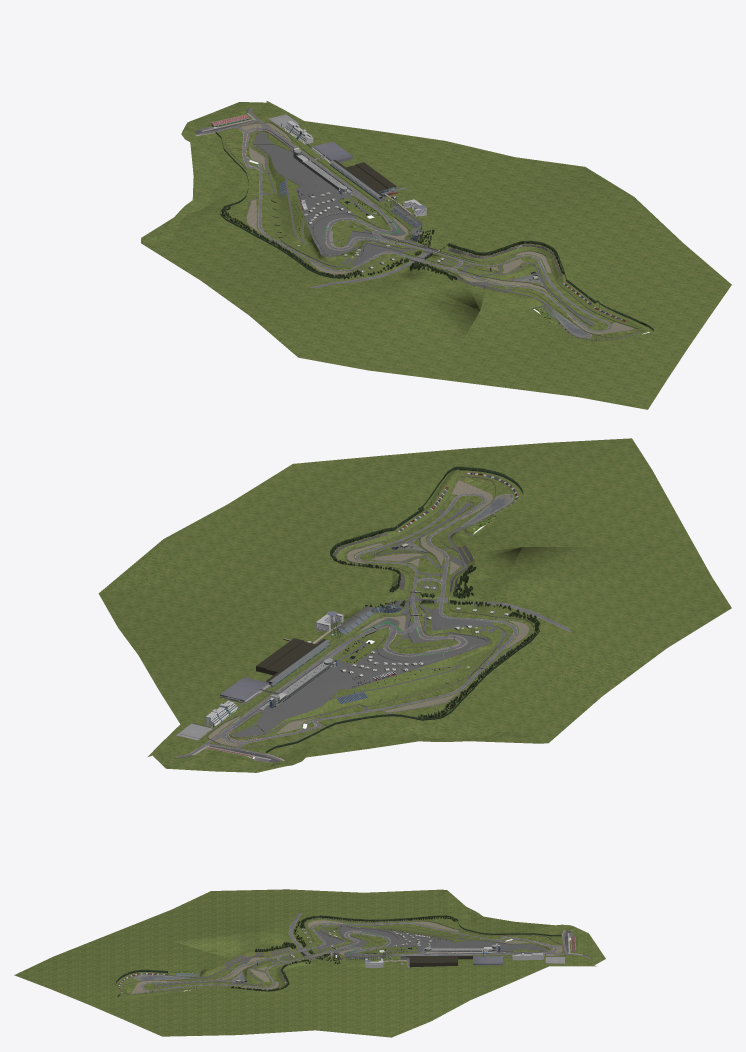
Rendered from SUP_nurburgring_gp_2016_layout.glb.
3 views of the same model, one above another, from view 1: azimuth 30°, elevation 25°; view 2: azimuth 150°, elevation 25°; view 3: azimuth 270°, elevation 25° (orthographic). The views are drawn at different scales.
Visible parts, largest first — view 1: SUP_nurburgring_gp_2016_layout; view 2: SUP_nurburgring_gp_2016_layout; view 3: SUP_nurburgring_gp_2016_layout.
Part boxes in pixels (box(x1,y1,x2,y2)): SUP_nurburgring_gp_2016_layout: box(141, 101, 731, 409); SUP_nurburgring_gp_2016_layout: box(98, 438, 731, 772); SUP_nurburgring_gp_2016_layout: box(14, 889, 605, 1037).
Bounding box in the file's own units: 1216 × 154 × 2484.
53 materials, 49 textured.
